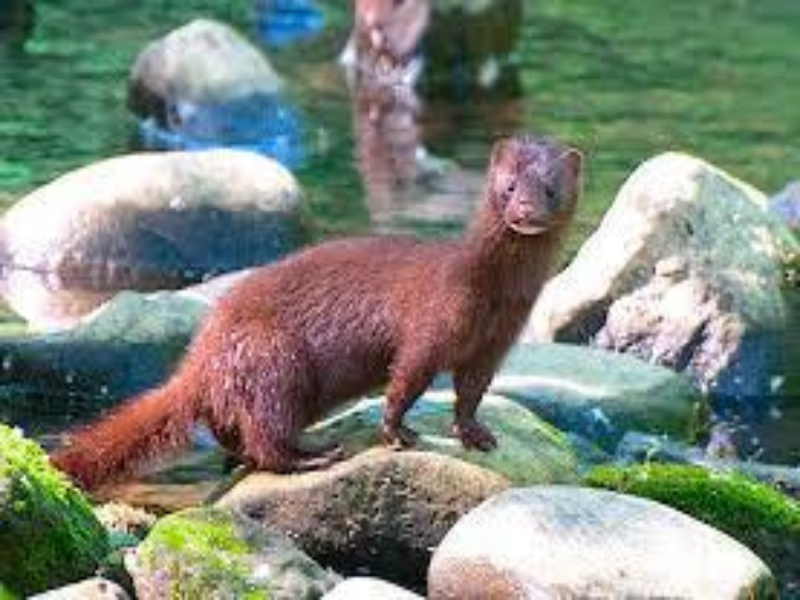minkish: (55, 132, 583, 497)
